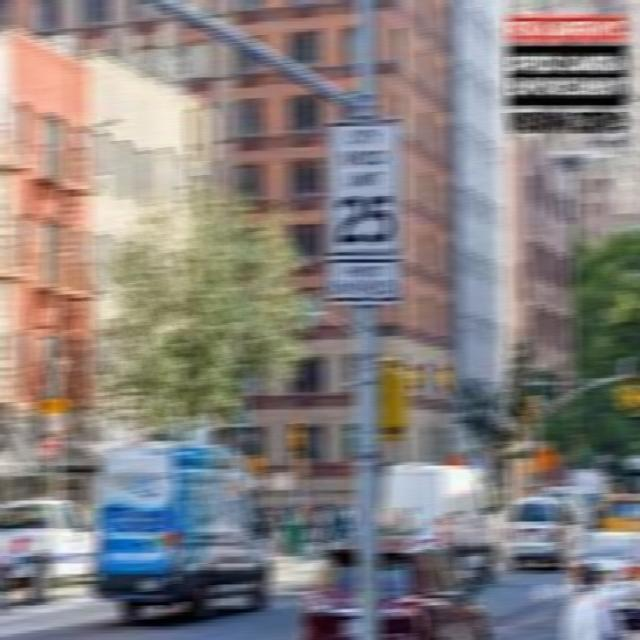speedLimit25: (325, 126, 402, 255)
